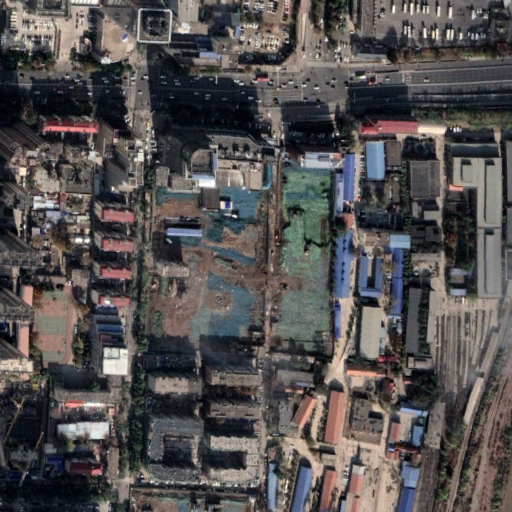cw: (141, 161, 331, 355)
